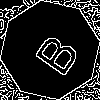B: (25, 25, 82, 79)
